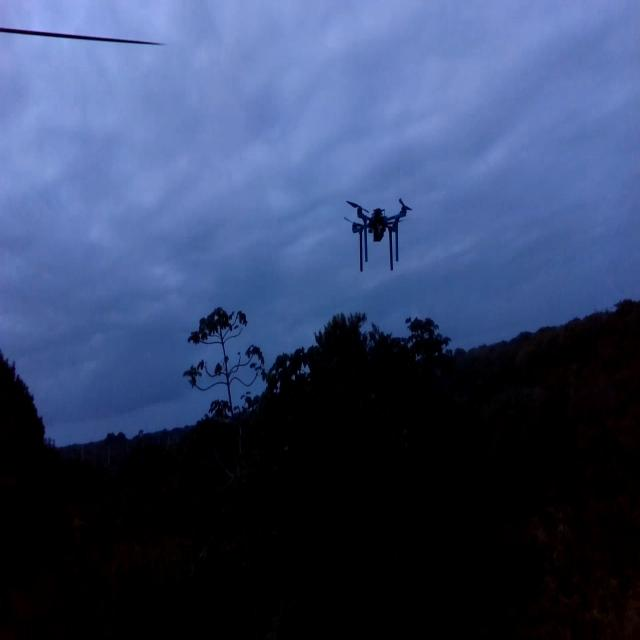-uav-: (340, 185, 418, 278)
